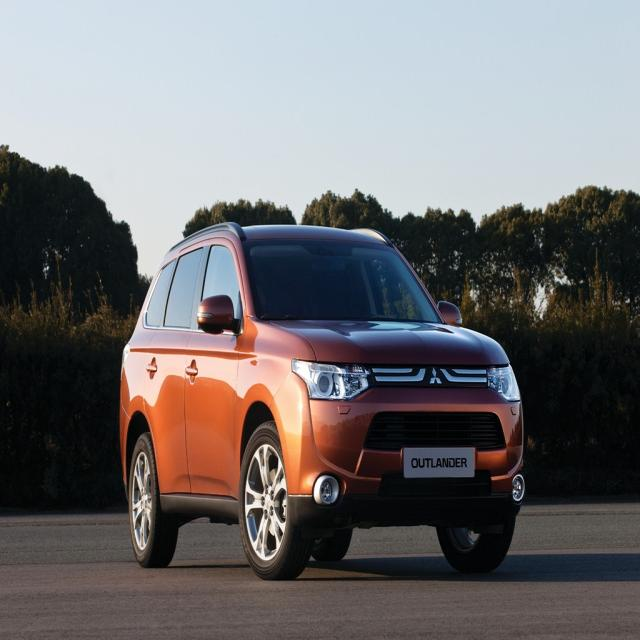light_vehicle: (118, 223, 526, 582)
